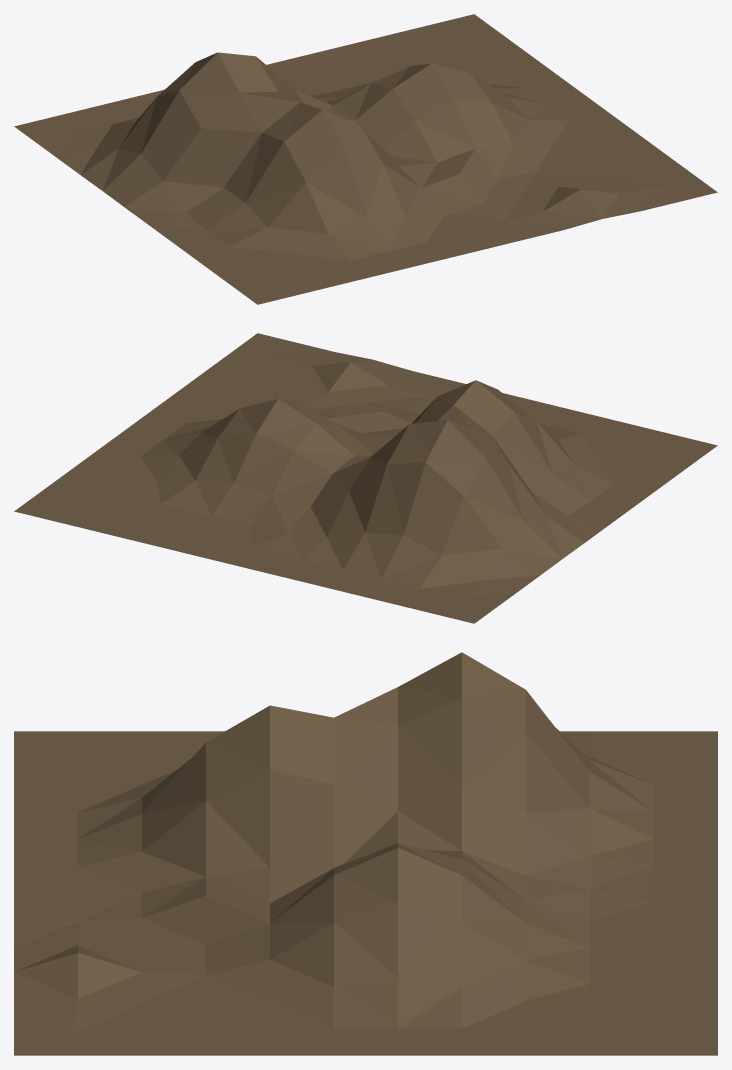
Rendered from dirtpilefull (1).fbx.
3 renders of one model, top to bottom at view 1: azimuth 30°, elevation 25°; view 2: azimuth 150°, elevation 25°; view 3: azimuth 270°, elevation 25°, orthographic. The views are drawn at different scales.
Visible parts, largest first — view 1: Plane; view 2: Plane; view 3: Plane.
Boxes of the visible parts, <box> form: Plane: <box>14,14,717,304</box>; Plane: <box>14,333,717,623</box>; Plane: <box>14,652,717,1055</box>.
Size of the model in its own units: 788 by 181 by 722.
